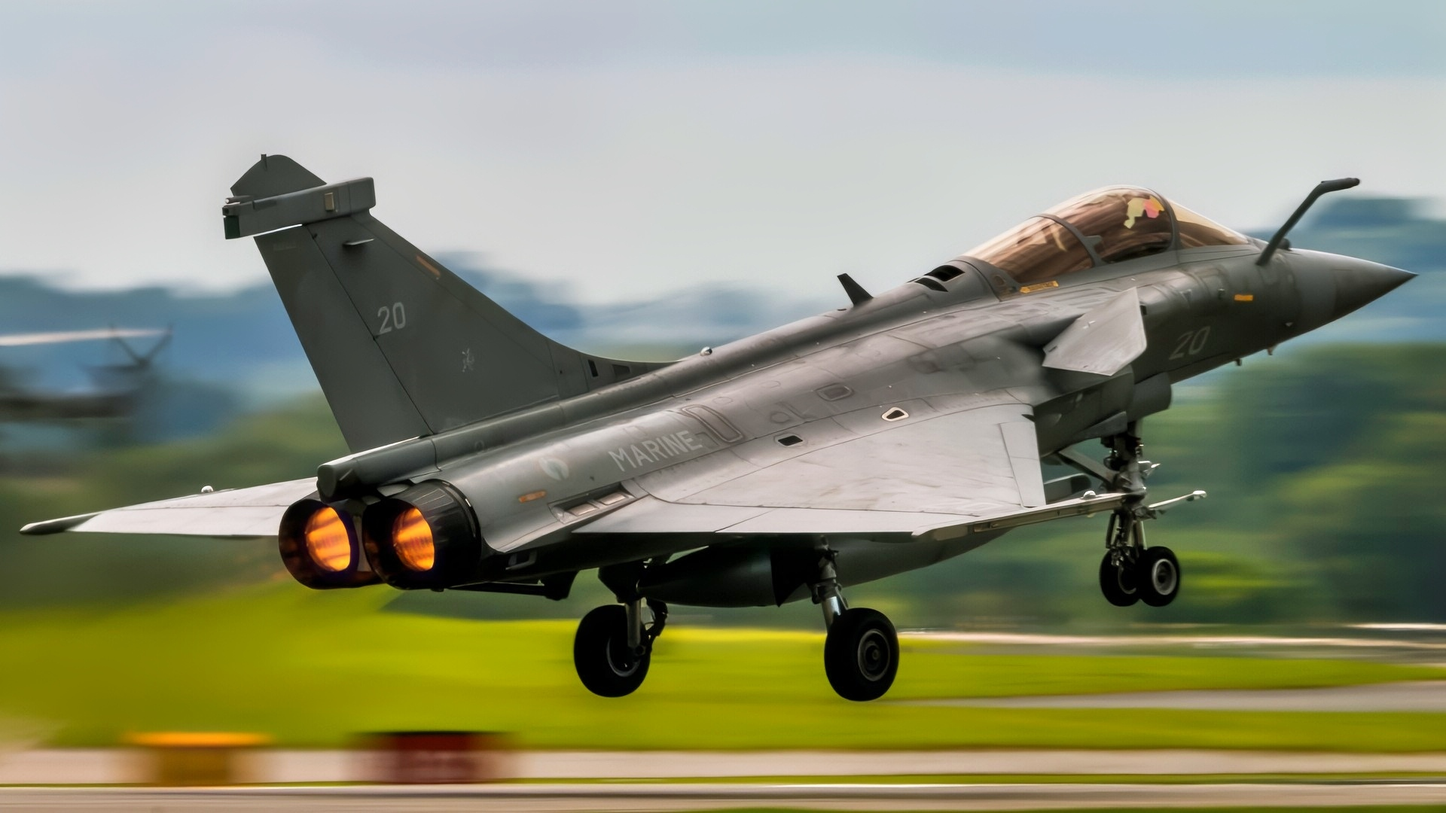Rafale: (17, 147, 1421, 711)
